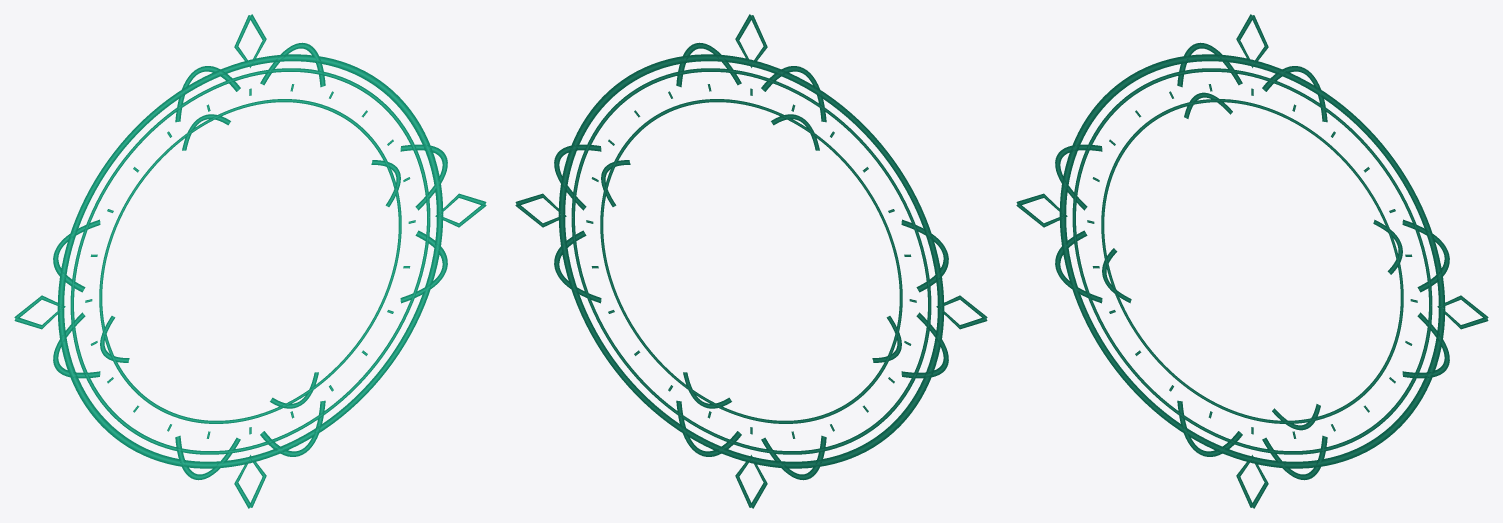
File: Venti_GroundSigil.fbx
3 renders of one model, left to right at view 1: azimuth 30°, elevation 25°; view 2: azimuth 150°, elevation 25°; view 3: azimuth 330°, elevation 25°, orthographic.
Parts seen in each view (by area): view 1: Venti_GroundSigil; view 2: Venti_GroundSigil; view 3: Venti_GroundSigil.
Boxes of the visible parts, bbox=[...] form: Venti_GroundSigil: bbox=[14, 14, 486, 508]; Venti_GroundSigil: bbox=[515, 14, 987, 508]; Venti_GroundSigil: bbox=[1016, 14, 1488, 508].
Bounding box in the file's own units: 2.49 × 2.49 × 4.06e-07.
